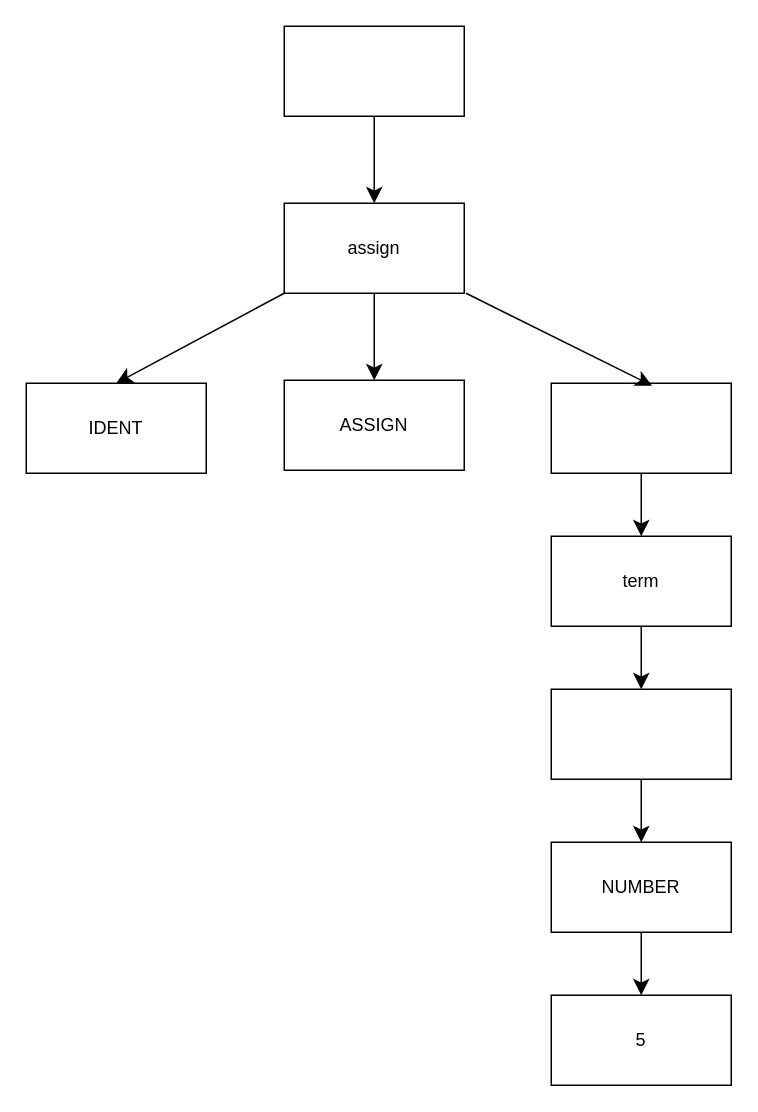
This 758x1112 diagram has some shape labels left out. Each missing label, with the centre of its shape:
expr: point 640,427
factor: point 640,733
stmt: point 373,70
